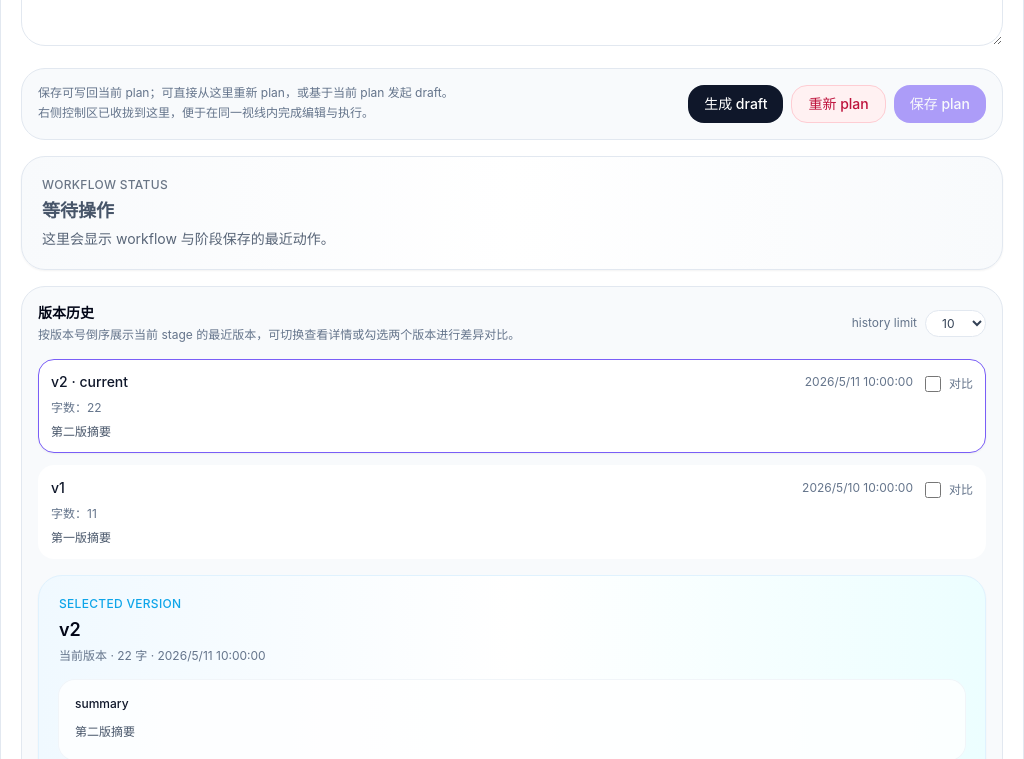
Test: ChapterWorkbenchPage › shows diff dialog only after clicking view diff for a selected comparison pair
(page scrolled)
Expected: the heading "版本历史" is shown, [38, 304, 94, 321]
What coordinates should you click on to do the following:
click the checkbox named "对比 v2"
I would click on:
 (933, 384)
Its box is [925, 376, 941, 392].
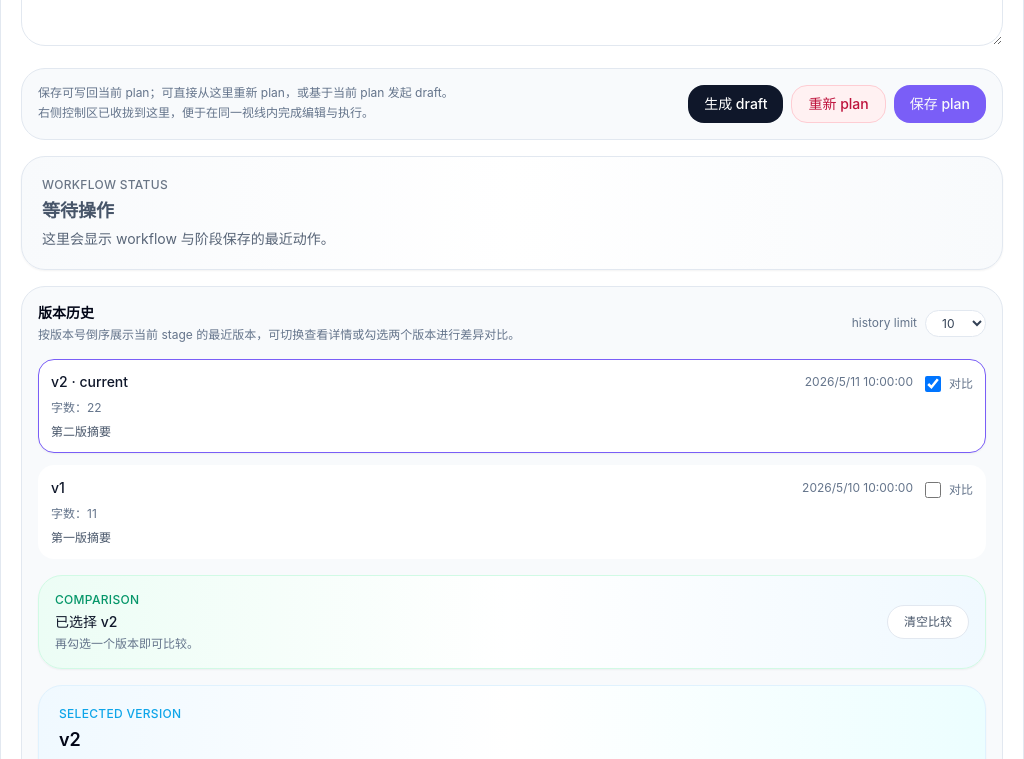
Expected: the dialog "版本差异对比" is not shown
Result: the text "再勾选一个版本即可比较。" is shown at [55, 636, 199, 652]
What coordinates should you click on to do the following:
click the checkbox named "对比 v1"
I would click on:
 (933, 490)
Its box is [925, 482, 941, 498].
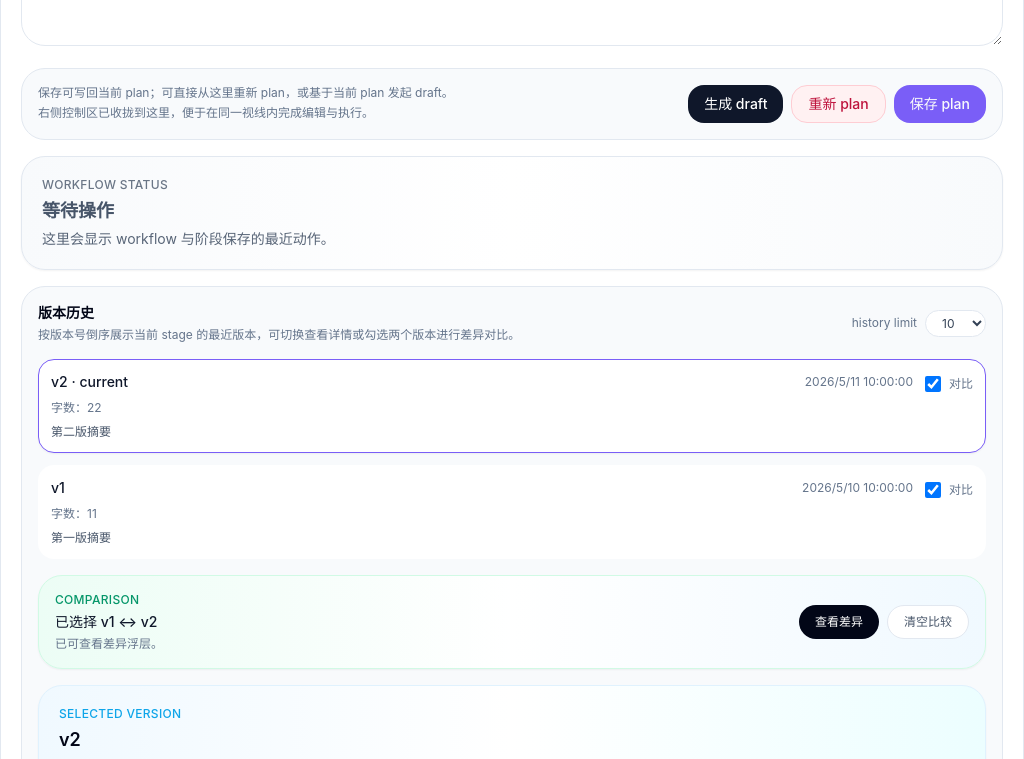
Expected: the dialog "版本差异对比" is not shown
Result: the button "查看差异" is shown
What coordinates should you click on to do the following:
click the button "查看差异"
I would click on:
 (839, 622)
Its box is [799, 605, 879, 639].
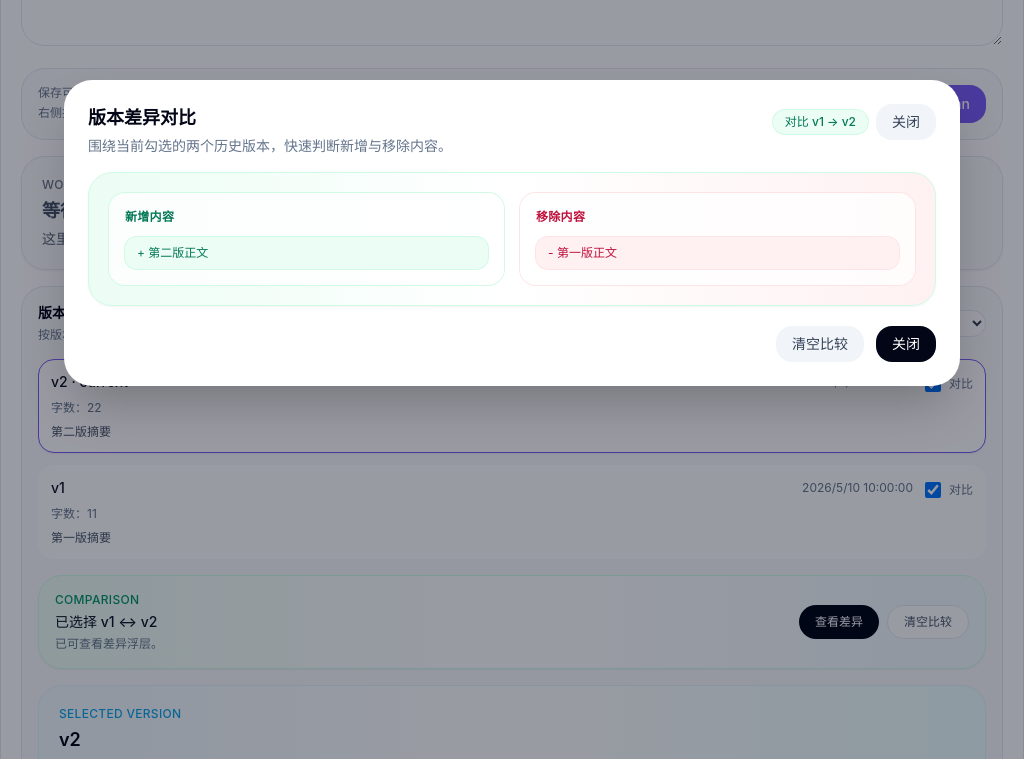
Result: the text "对比 v1 → v2" is shown at [773, 110, 868, 134]
Result: the text "+ 第二版正文" is shown at [125, 237, 488, 269]
Result: the text "- 第一版正文" is shown at [536, 237, 899, 269]
What coordinates should you click on to do the following:
click the button "关闭" next to "对比 v1 → v2"
I would click on:
 (906, 122)
Its box is [876, 104, 936, 140].
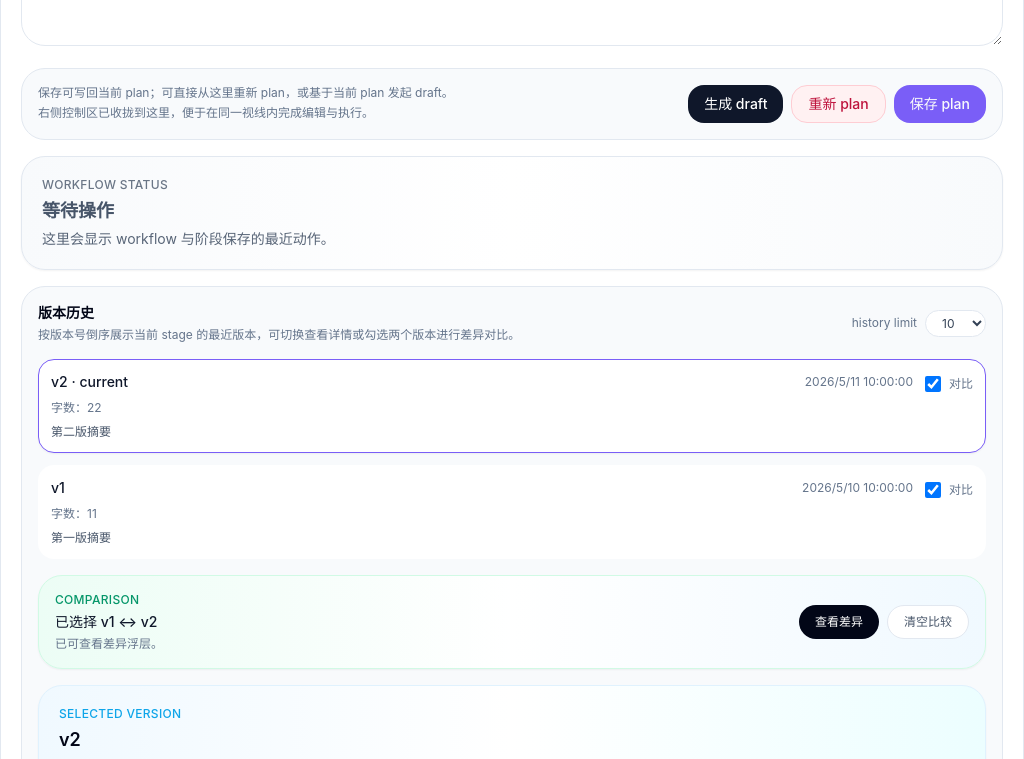
Result: the button "查看差异" is shown at [799, 605, 879, 639]
Result: the heading "版本差异对比" is gone
